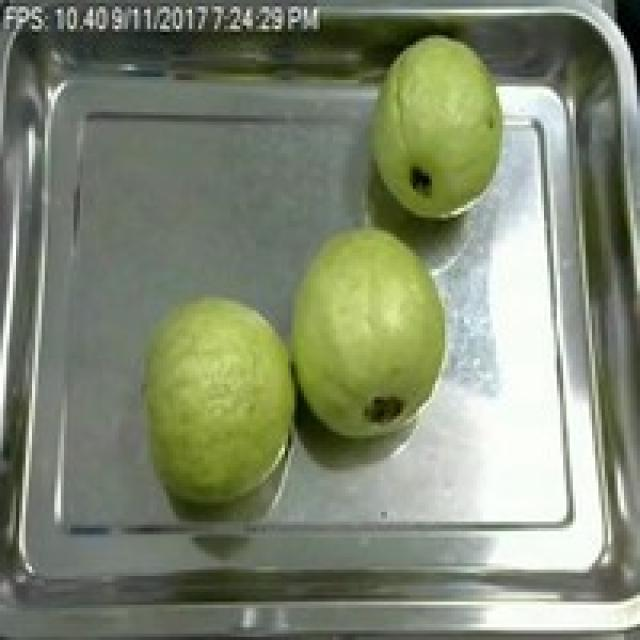Fruit: (272, 212, 461, 454), (137, 285, 310, 512), (352, 19, 518, 230)
